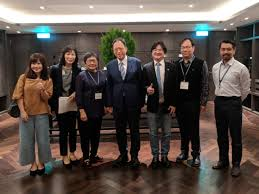F_M_suit jacket: (104, 54, 146, 108)
F_shirt: (208, 57, 253, 102)
F_tie: (153, 62, 164, 102), (119, 57, 127, 78)
